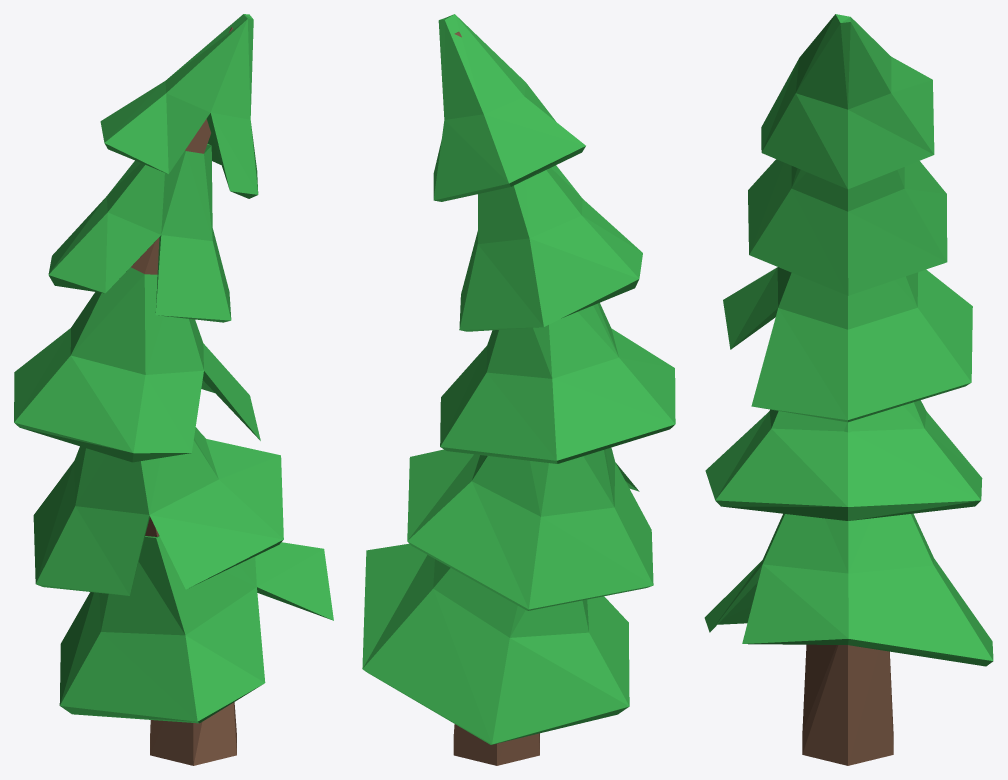
File: tree_2_2.FBX
3 renders of one model, left to right at view 1: azimuth 30°, elevation 25°; view 2: azimuth 150°, elevation 25°; view 3: azimuth 270°, elevation 25°, orthographic. The views are drawn at different scales.
Visible parts, largest first — view 1: 009; view 2: 009; view 3: 009.
Boxes of the visible parts, box(x1,y1,x2,y2) form: 009: box(14, 14, 333, 765); 009: box(362, 14, 675, 765); 009: box(704, 14, 993, 765).
Bounding box in the file's own units: 22.6 × 49.99 × 17.36.
